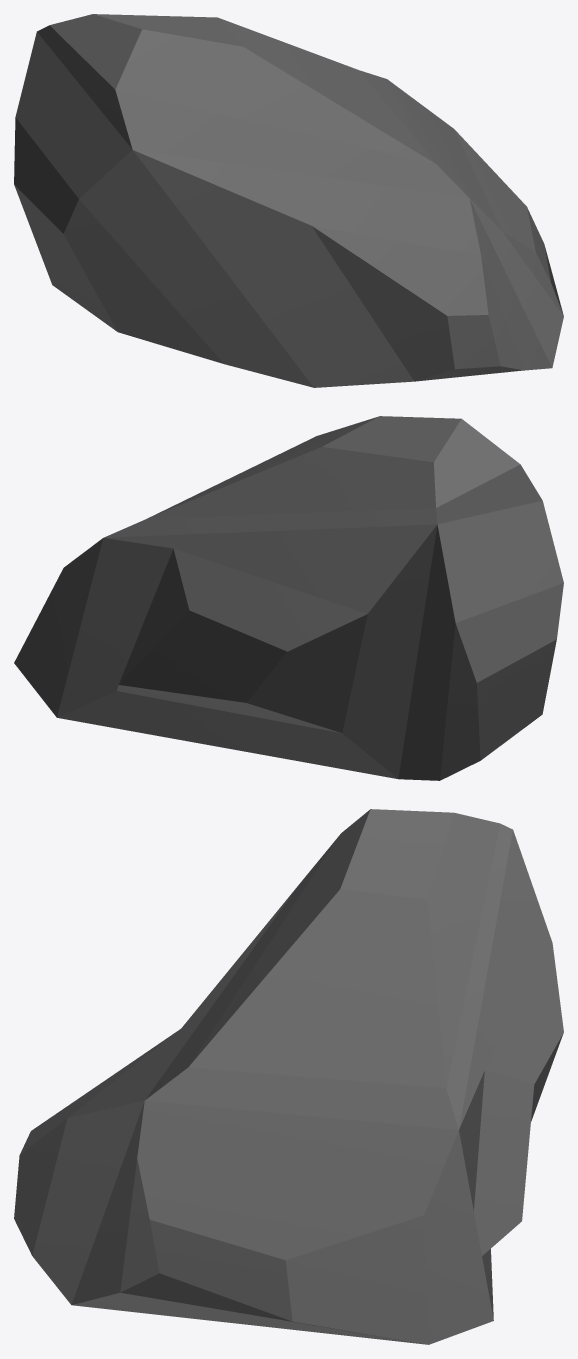
File: Rock1.fbx
The picture shows the model from 3 angles, top to bottom: view 1: azimuth 30°, elevation 25°; view 2: azimuth 150°, elevation 25°; view 3: azimuth 270°, elevation 25°; orthographic projection. The views are drawn at different scales.
Visible parts, largest first — view 1: Cube; view 2: Cube; view 3: Cube.
Boxes of the visible parts, x1,y1,x2,y2 form: Cube: (14,14,563,387); Cube: (14,416,563,780); Cube: (14,809,563,1344).
Size of the model in its own units: 423 by 270 by 390.
